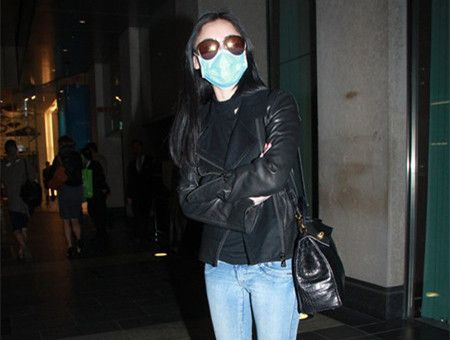mask: (191, 34, 253, 90)
